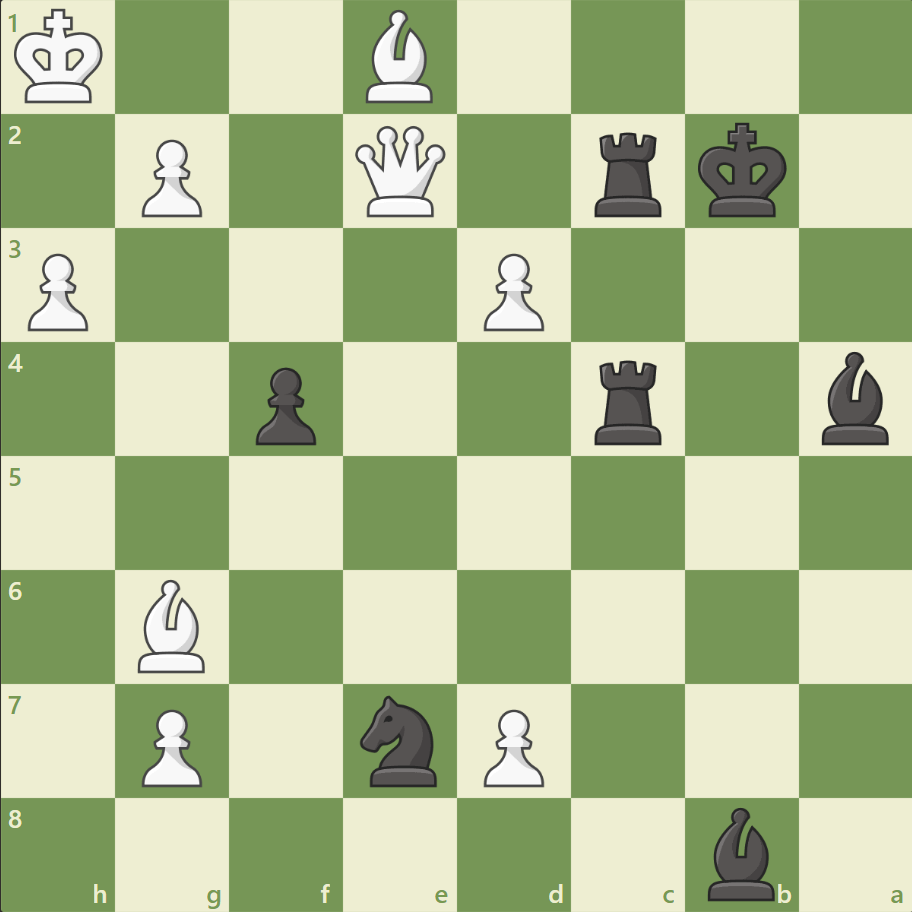B: (358, 6, 442, 109), (131, 574, 215, 676)
K: (11, 4, 111, 112)
P: (474, 700, 549, 791), (133, 700, 208, 791), (474, 246, 549, 337), (20, 246, 95, 337), (133, 132, 208, 223)
Q: (351, 122, 450, 222)
b: (698, 801, 782, 904), (812, 347, 896, 449)
k: (692, 117, 792, 225)
n: (351, 688, 449, 791)
p: (247, 359, 322, 450)
r: (587, 352, 670, 449), (587, 125, 670, 222)
